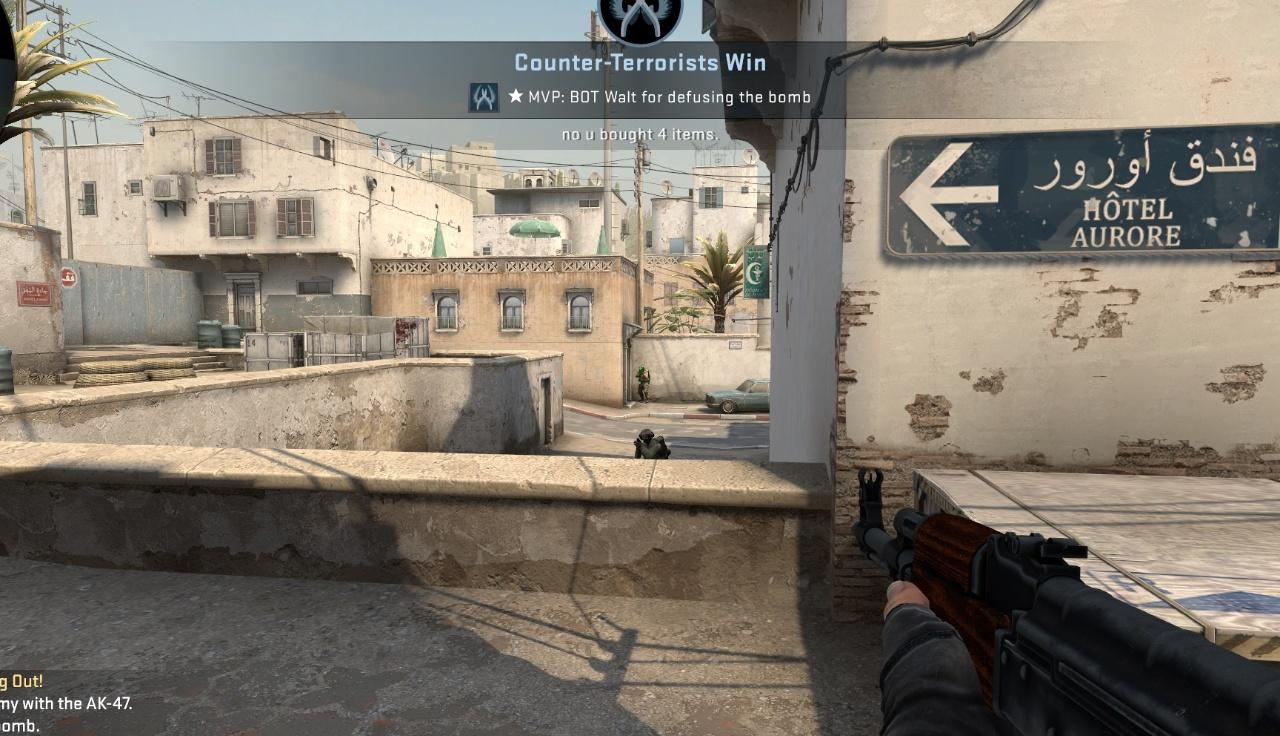ct: (635, 429, 670, 459), (636, 367, 650, 403)
cthead: (640, 429, 654, 444)
rifle: (852, 464, 1280, 736)
